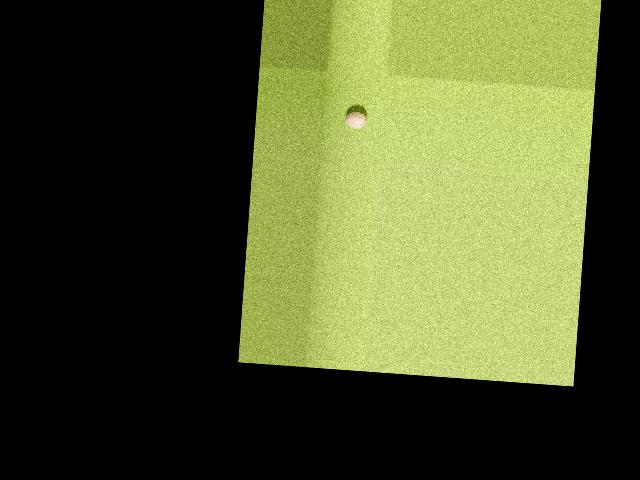egg: (343, 110, 367, 128)
